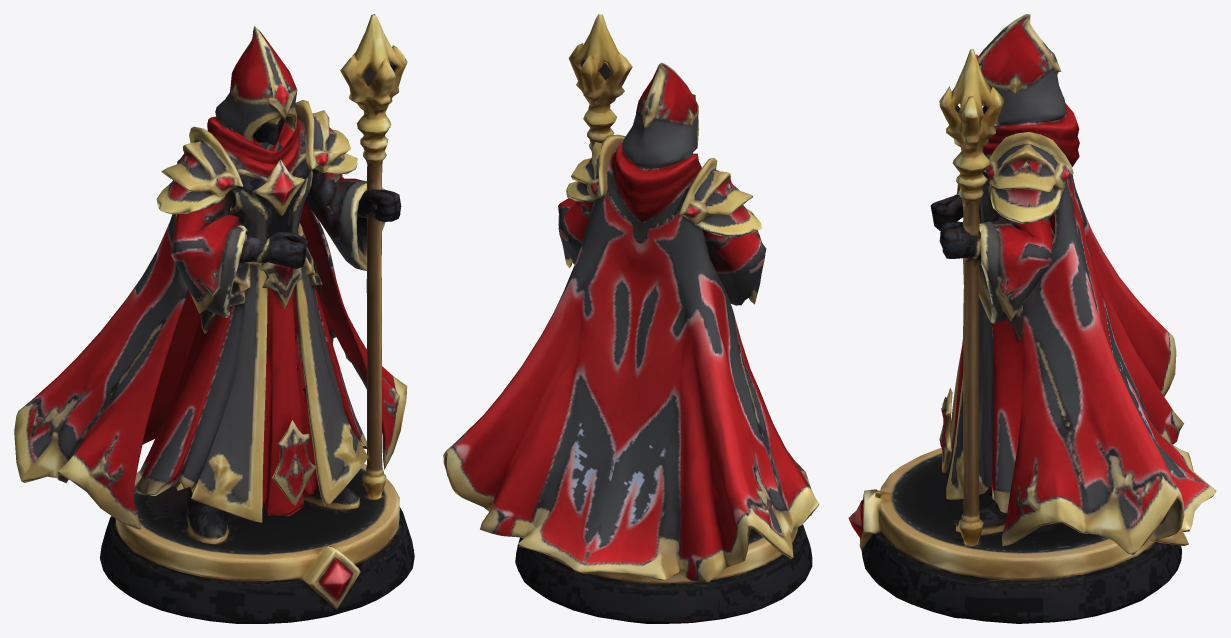
Rendered from bishop.glb.
3 views of the same model, side by side, from view 1: azimuth 30°, elevation 25°; view 2: azimuth 150°, elevation 25°; view 3: azimuth 270°, elevation 25° (orthographic). The views are drawn at different scales.
Parts seen in each view (by area): view 1: Bispo_Vermelho; view 2: Bispo_Vermelho; view 3: Bispo_Vermelho.
Part boxes in pixels (x1,y1,x2,y2): Bispo_Vermelho: [14, 14, 414, 623]; Bispo_Vermelho: [443, 14, 819, 623]; Bispo_Vermelho: [848, 14, 1216, 623].
Bounding box in the file's own units: 0.6959 × 1 × 0.6034.
1 material, 1 textured.
